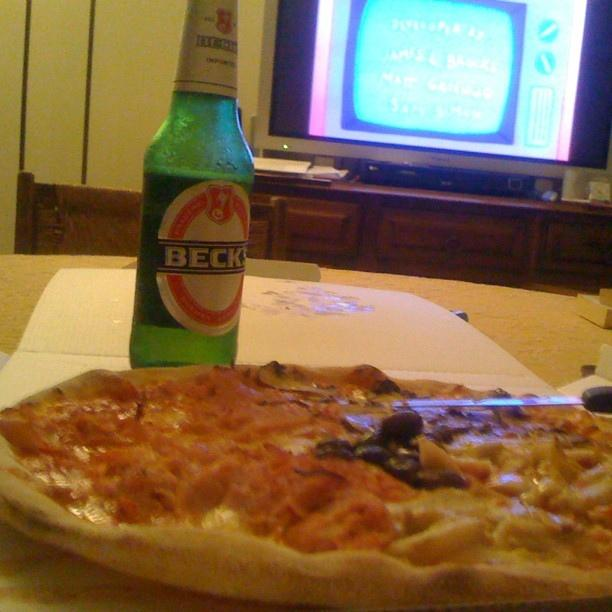mushroom: (258, 362, 348, 404), (315, 441, 418, 477), (379, 410, 424, 442), (356, 433, 416, 456), (434, 415, 470, 442), (340, 415, 383, 434), (460, 408, 502, 427), (489, 422, 526, 436), (375, 380, 400, 394), (507, 407, 530, 418)
